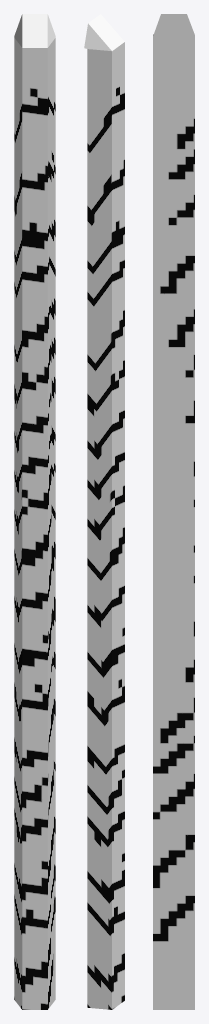
File: Rope.fbx
The picture shows the model from 3 angles, left to right: view 1: azimuth 90°, elevation 25°; view 2: azimuth 150°, elevation 25°; view 3: azimuth 270°, elevation 25°; orthographic projection.
Visible parts, largest first — view 1: Rope; view 2: Rope; view 3: Rope.
Boxes of the visible parts, box(x1,y1,x2,y2) form: Rope: box(14, 14, 55, 1009); Rope: box(84, 14, 124, 1009); Rope: box(153, 14, 194, 1009).
Size of the model in its own units: 6.49 by 253 by 9.62.
Materials: 1 (1 with a texture image).
